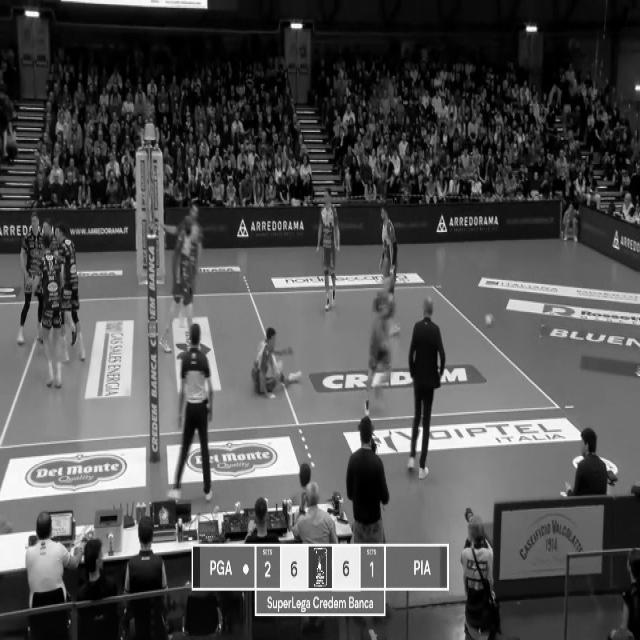volleyball court: (0, 284, 562, 444)
